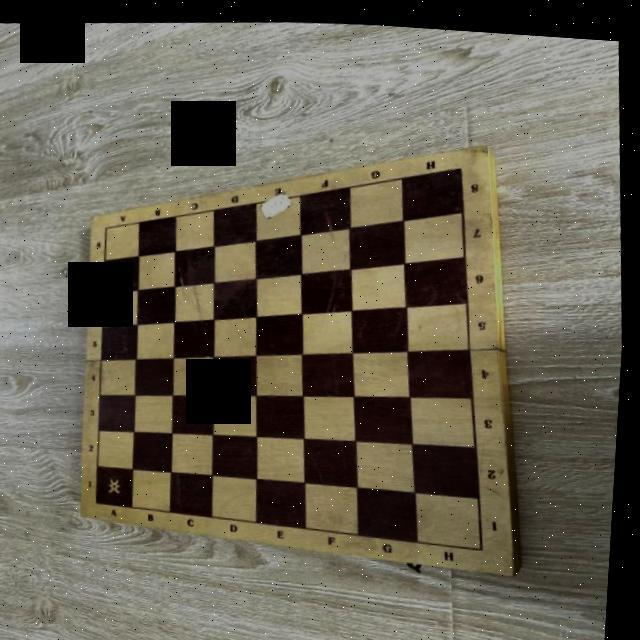chess-table-corners: (452, 152, 470, 168), (477, 534, 496, 549), (102, 219, 114, 230), (96, 494, 108, 504)
